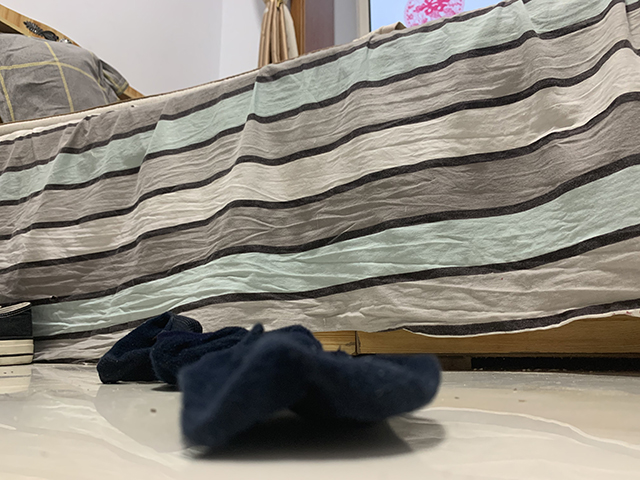bed: (1, 1, 640, 367)
socks: (184, 326, 444, 452), (91, 314, 244, 379)
